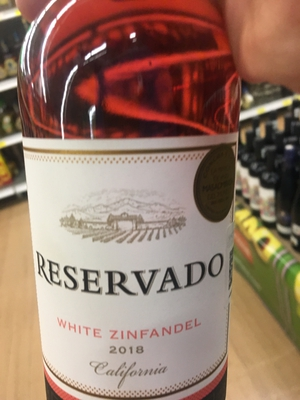reservado white zinfandel: (18, 9, 239, 399)
